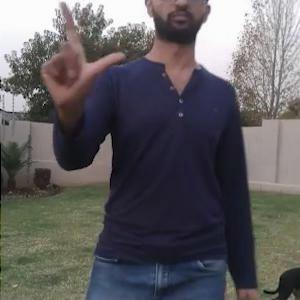land_hand: (33, 0, 127, 108)
